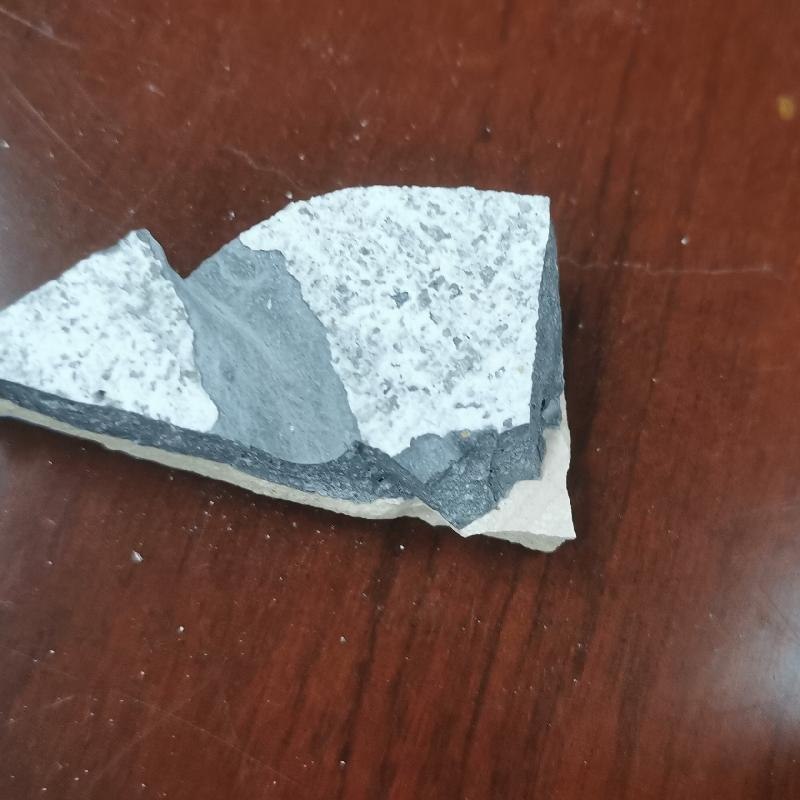tile: (0, 181, 585, 557)
